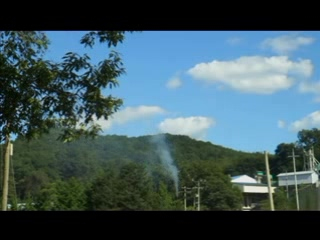smoke: (142, 134, 183, 197)
